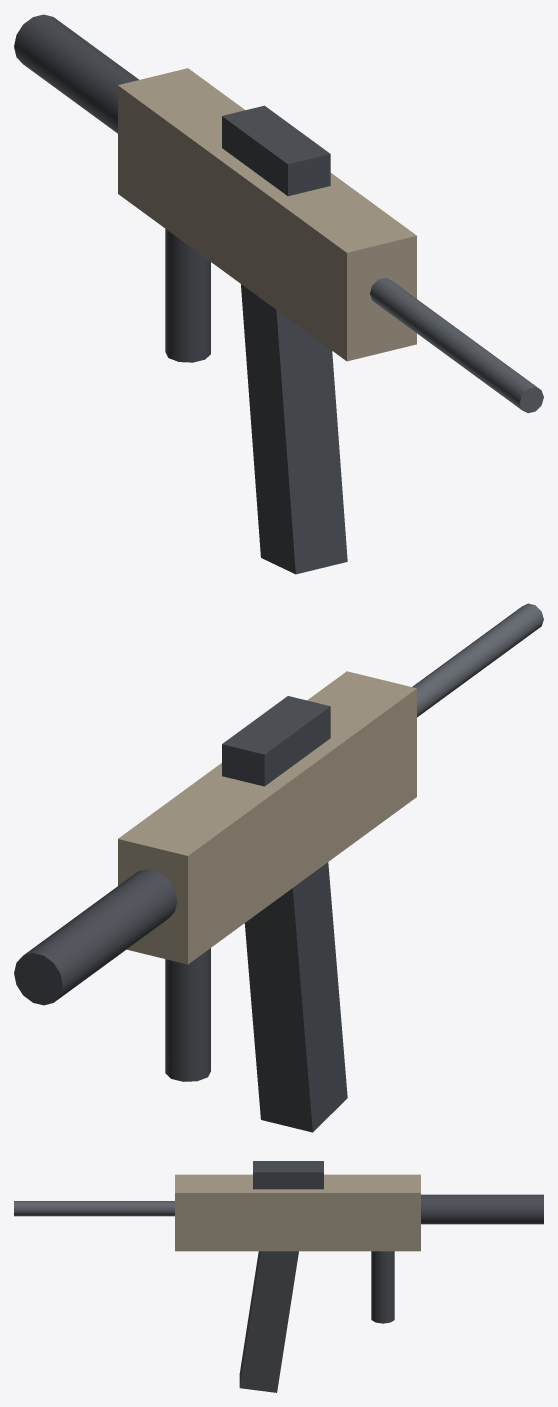
3 views of the same model, one above another, from view 1: azimuth 30°, elevation 25°; view 2: azimuth 150°, elevation 25°; view 3: azimuth 270°, elevation 25° (orthographic). The views are drawn at different scales.
Parts seen in each view (by area): view 1: mp9; view 2: mp9; view 3: mp9.
Boxes of the visible parts, x1=… form: mp9: x1=14, y1=14, x2=543, y2=574; mp9: x1=14, y1=603, x2=543, y2=1132; mp9: x1=14, y1=1161, x2=543, y2=1392.
Bounding box in the file's own units: 0.046 × 0.256 × 0.56.
